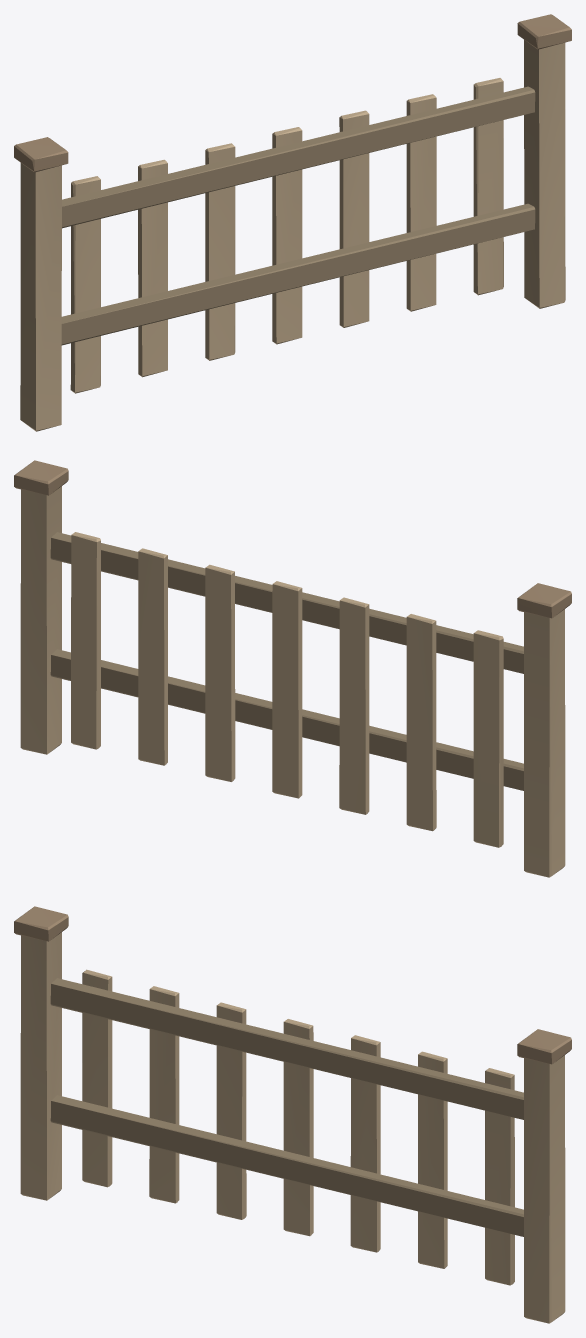
The model's file is furn_fence_piece__oak_low.glb.
3 renders of one model, top to bottom at view 1: azimuth 30°, elevation 25°; view 2: azimuth 150°, elevation 25°; view 3: azimuth 330°, elevation 25°, orthographic.
Size of the model in its own units: 1.93 by 0.945 by 0.1257.
